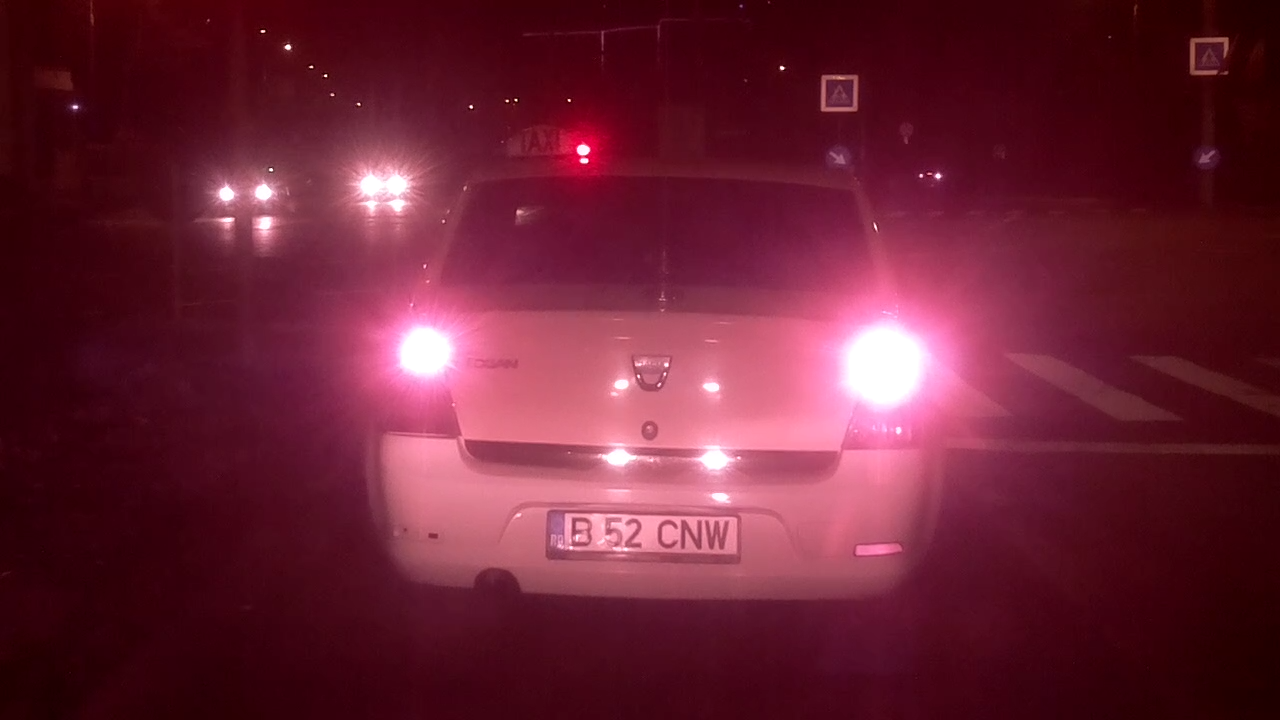license-plate: (540, 504, 748, 569)
